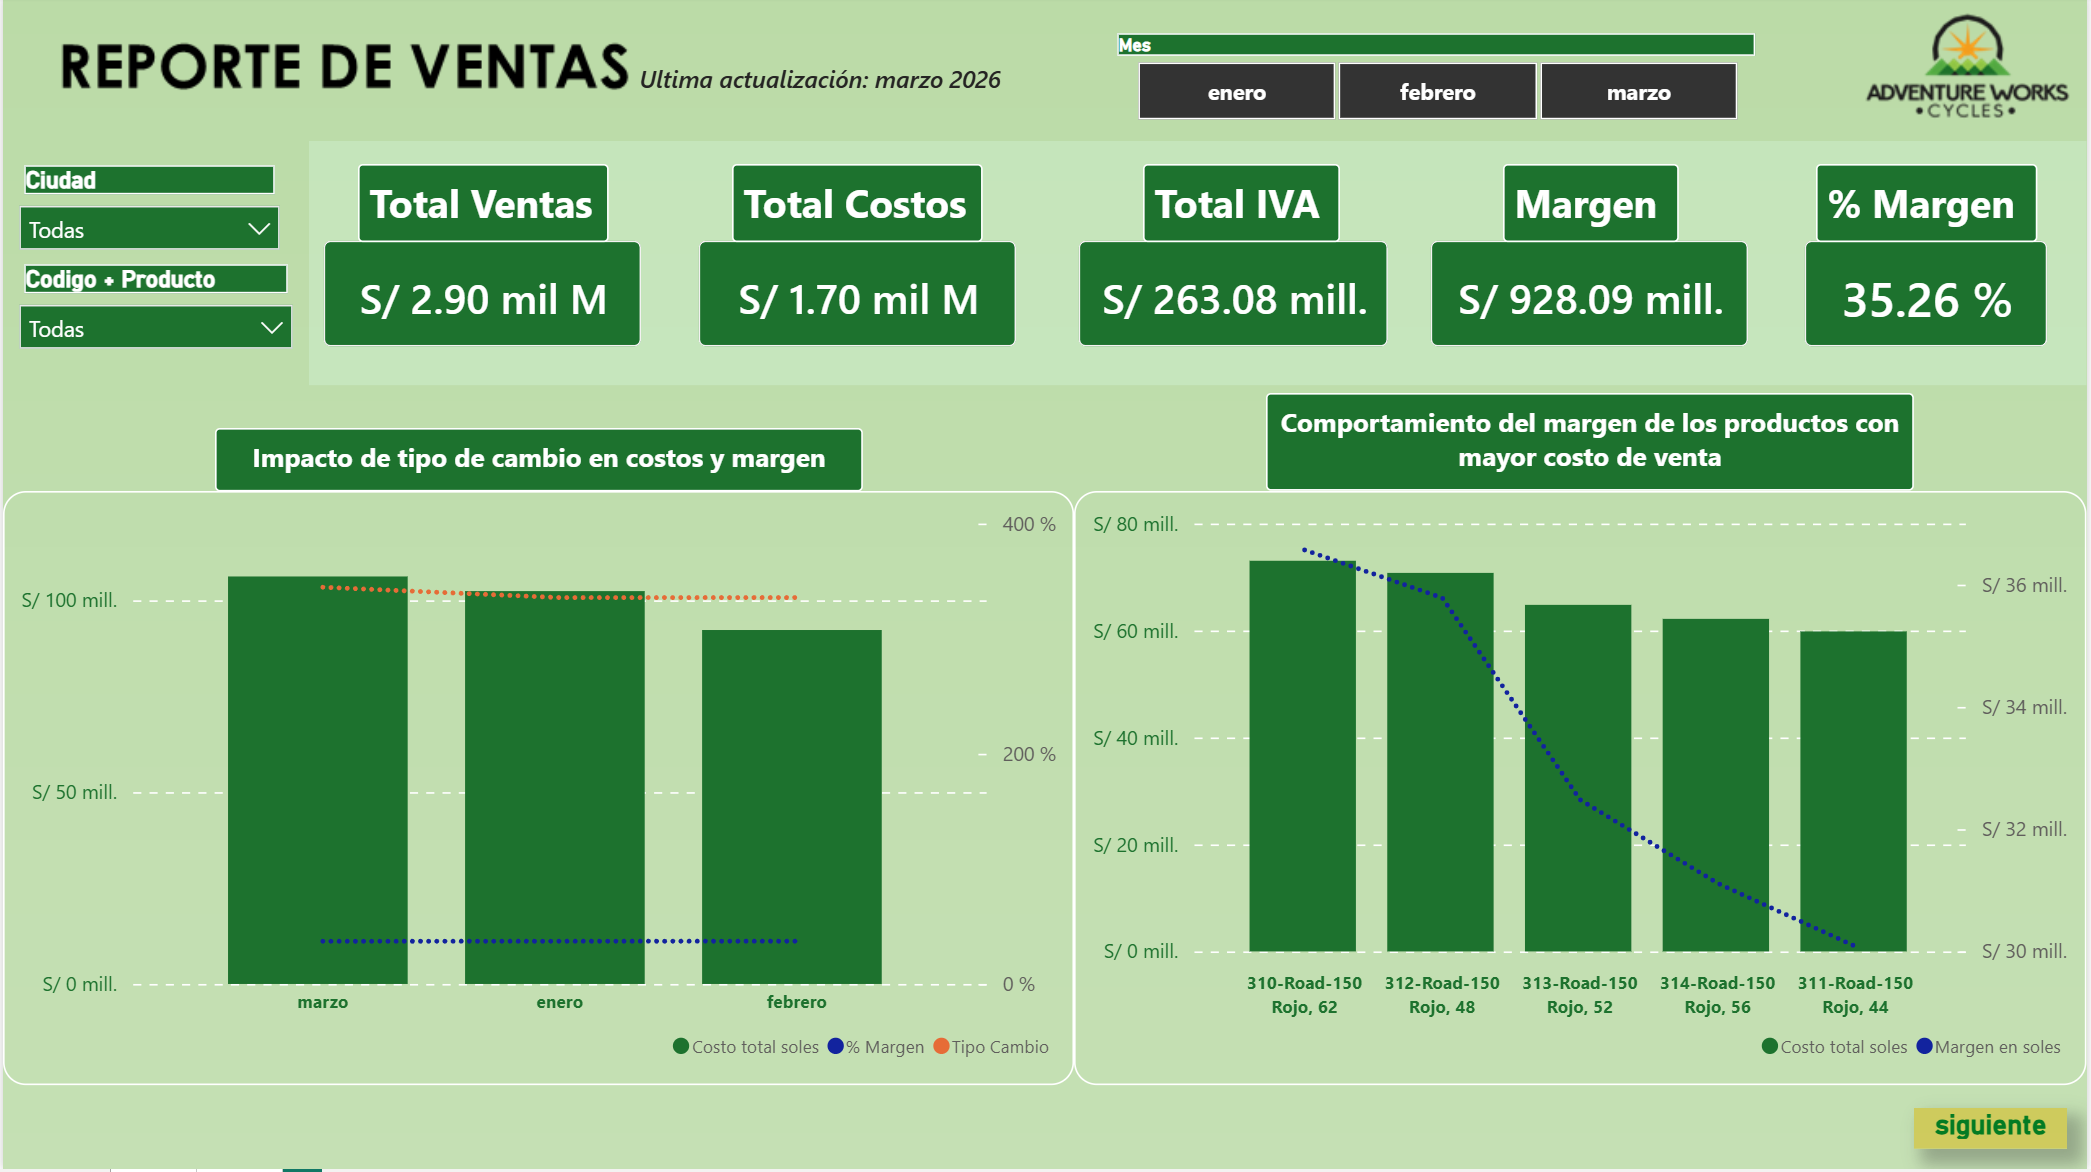

The dashboard page shown, as its layout file describes it:
{"tool":"powerbi","page":{"name":"Página 1","canvas":[1280,720],"ordinal":0},"visuals":[{"type":"shape","box":[187.9,88.3,1092.1,150],"z":0},{"type":"cardVisual","fields":{"Data":["Medidas.Venta_Total_Soles_tc"]},"box":[180,132.8,229.7,99.5],"z":1000},{"type":"cardVisual","fields":{"Data":["Medidas.Costo_Total_Soles_tc"]},"box":[410.3,132.8,229.7,99.5],"z":2000},{"type":"cardVisual","fields":{"Data":["Medidas.IVA_Total_Soles_tc"]},"box":[643.9,132.8,224.5,99.5],"z":3000},{"type":"cardVisual","fields":{"Data":["Medidas.Margen_Total_Soles_tc"]},"box":[859.9,132.8,229.7,99.5],"z":4000},{"type":"cardVisual","fields":{"Data":["Fact_mensual.% Margen"]},"box":[1089.6,132.8,183.9,99.5],"z":5000},{"type":"textbox","box":[217.9,102.7,154.4,48.4],"z":6000},{"type":"textbox","box":[1113.8,102.7,136.1,48.4],"z":7000},{"type":"textbox","box":[921.4,102.7,108,48.4],"z":8000},{"type":"textbox","box":[447.6,102.7,154.4,48.4],"z":9000},{"type":"textbox","box":[700.2,102.7,121.1,48.4],"z":10000},{"type":"slicer","fields":{"Values":["Dim_calendario.E_Month"]},"box":[671.4,17,418.2,65.4],"z":11000},{"type":"slicer","fields":{"Values":["Dim_tiendas.ciudad"]},"box":[0,98.1,180,60.9],"z":12000},{"type":"cardVisual","fields":{"Data":["Fact_mensual.Actualización"]},"box":[361.9,24.2,296.4,50.4],"z":13000},{"type":"slicer","fields":{"Values":["Dim_producto.Codigo+Producto"]},"box":[0,159,187.8,60.9],"z":14000},{"type":"lineClusteredColumnComboChart","fields":{"Category":["Dim_calendario.E_Month"],"Y":["Medidas.Costo_Total_Soles_tc"],"Y2":["Fact_mensual.% Margen","Dim_tipo_cambio.Tipo Cambio"]},"box":[0,303.5,658.2,364.5],"z":15000},{"type":"textbox","box":[130.4,265,398.2,38.6],"z":16000},{"type":"lineClusteredColumnComboChart","fields":{"Category":["Dim_producto.Codigo+Producto"],"Y":["Medidas.Costo_Total_Soles_tc"],"Y2":["Medidas.Margen_Total_Soles_tc"]},"box":[658.2,303.5,621.8,364.5],"z":16001},{"type":"textbox","box":[776,243.2,398.2,60.3],"z":16002},{"type":"actionButton","title":"siguiente","box":[1173.8,682.3,94.3,25.4],"z":16004}]}

Visuals, with their boxes in screenshot pixels (x1, y1, x2, y2), scaled from the page's 1280x720 canvas onto the 2091x1172 screenshot:
shape: rect(307, 144, 2090, 388)
cardVisual - Medidas.Venta_Total_Soles_tc: rect(294, 216, 669, 378)
cardVisual - Medidas.Costo_Total_Soles_tc: rect(670, 216, 1046, 378)
cardVisual - Medidas.IVA_Total_Soles_tc: rect(1052, 216, 1419, 378)
cardVisual - Medidas.Margen_Total_Soles_tc: rect(1405, 216, 1780, 378)
cardVisual - Fact_mensual.% Margen: rect(1780, 216, 2080, 378)
textbox: rect(356, 167, 608, 246)
textbox: rect(1819, 167, 2042, 246)
textbox: rect(1505, 167, 1682, 246)
textbox: rect(731, 167, 983, 246)
textbox: rect(1144, 167, 1342, 246)
slicer - Dim_calendario.E_Month: rect(1097, 28, 1780, 134)
slicer - Dim_tiendas.ciudad: rect(0, 160, 294, 259)
cardVisual - Fact_mensual.Actualización: rect(591, 39, 1075, 121)
slicer - Dim_producto.Codigo+Producto: rect(0, 259, 307, 358)
lineClusteredColumnComboChart - Dim_calendario.E_Month x Medidas.Costo_Total_Soles_tc: rect(0, 494, 1075, 1087)
textbox: rect(213, 431, 864, 494)
lineClusteredColumnComboChart - Dim_producto.Codigo+Producto x Medidas.Costo_Total_Soles_tc: rect(1075, 494, 2090, 1087)
textbox: rect(1268, 396, 1918, 494)
"siguiente" actionButton: rect(1918, 1111, 2072, 1152)
